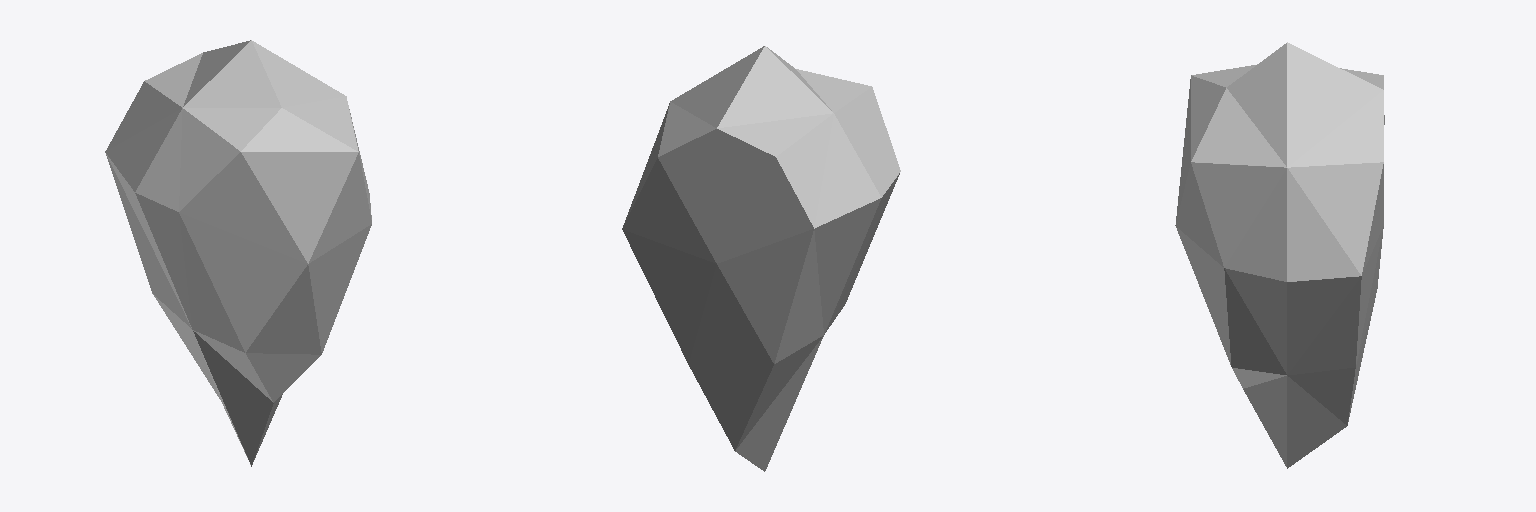
File: rock.obj
The picture shows the model from 3 angles: view 1: azimuth 30°, elevation 25°; view 2: azimuth 150°, elevation 25°; view 3: azimuth 270°, elevation 25°; orthographic projection.
Visible parts, largest first — view 1: Cube; view 2: Cube; view 3: Cube.
Boxes of the visible parts, x1,y1,x2,y2 form: Cube: [105, 40, 371, 466]; Cube: [622, 46, 900, 471]; Cube: [1175, 42, 1384, 468].
Bounding box in the file's own units: 2.81 × 4.88 × 2.17.